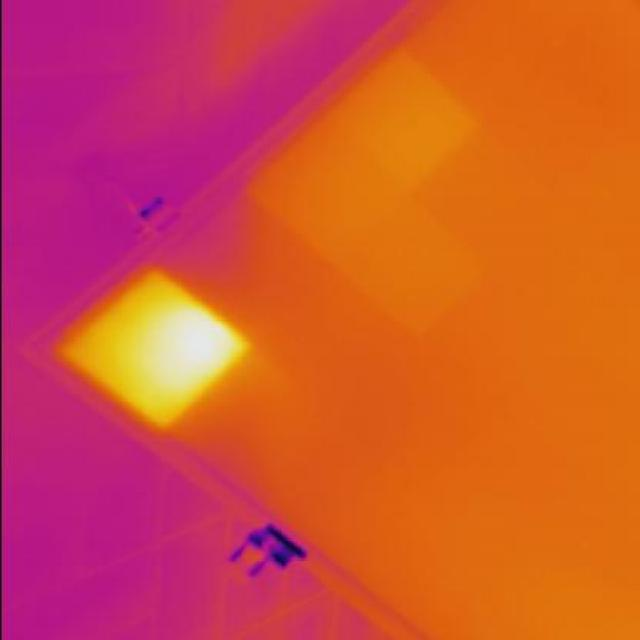hotspot: (43, 258, 252, 439)
